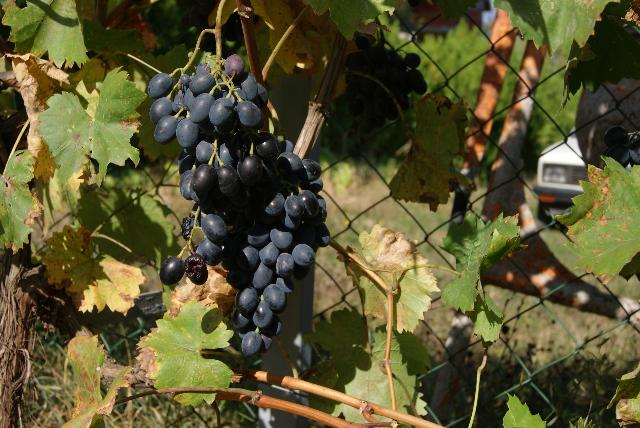grapes: (148, 55, 261, 285), (220, 151, 330, 355)
